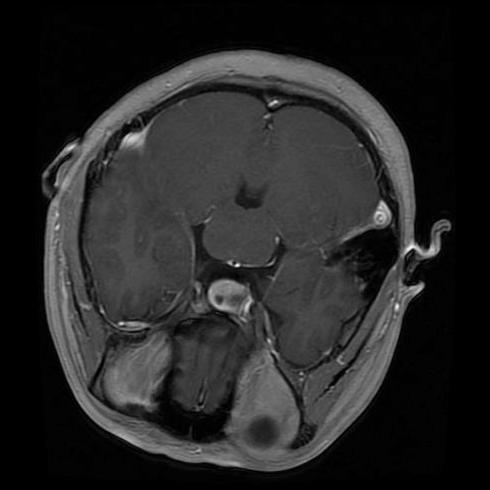Tumour-Pituitary: (208, 278, 259, 313)
